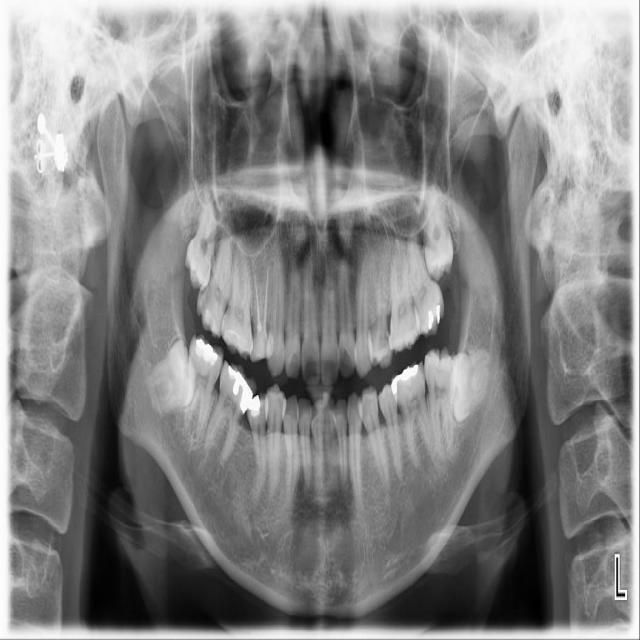3M ESPE Implant: (181, 205, 220, 292)
52: (207, 355, 269, 418), (385, 360, 438, 410), (183, 332, 228, 384), (412, 280, 447, 340), (246, 391, 269, 429), (250, 327, 274, 363)
73: (253, 261, 273, 331), (613, 556, 617, 570)
BioHorizons Implant: (401, 224, 449, 340)
BioLife Implant: (423, 185, 454, 283)
Biomet 3i Implant: (447, 346, 490, 424)
Blue Sky Bio Implant: (423, 347, 460, 459)
Caries: (190, 234, 243, 341)
Implant: (183, 333, 225, 435)
Keystone Dental Implant: (137, 339, 208, 418)
